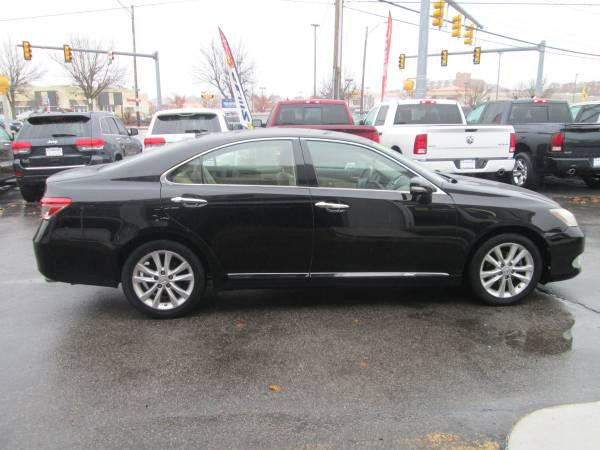Front_Bumper: (544, 225, 588, 285)
Front_Fender: (449, 197, 569, 283)
Front_Right_Door: (306, 188, 457, 280)
Front_Right_Window: (296, 139, 447, 196)
Hood: (438, 170, 559, 208)
Rear_Bumper: (29, 216, 122, 288)
Rear_Fender: (45, 175, 166, 245)
Rear_Left_Window: (157, 136, 305, 186)
Rear_Right_Door: (159, 183, 314, 287)
Right_Headlight: (549, 206, 578, 223)
Right_Taillight: (40, 196, 73, 218)
Roof: (100, 127, 446, 193)
Wheel: (121, 237, 203, 314), (474, 231, 545, 302)
